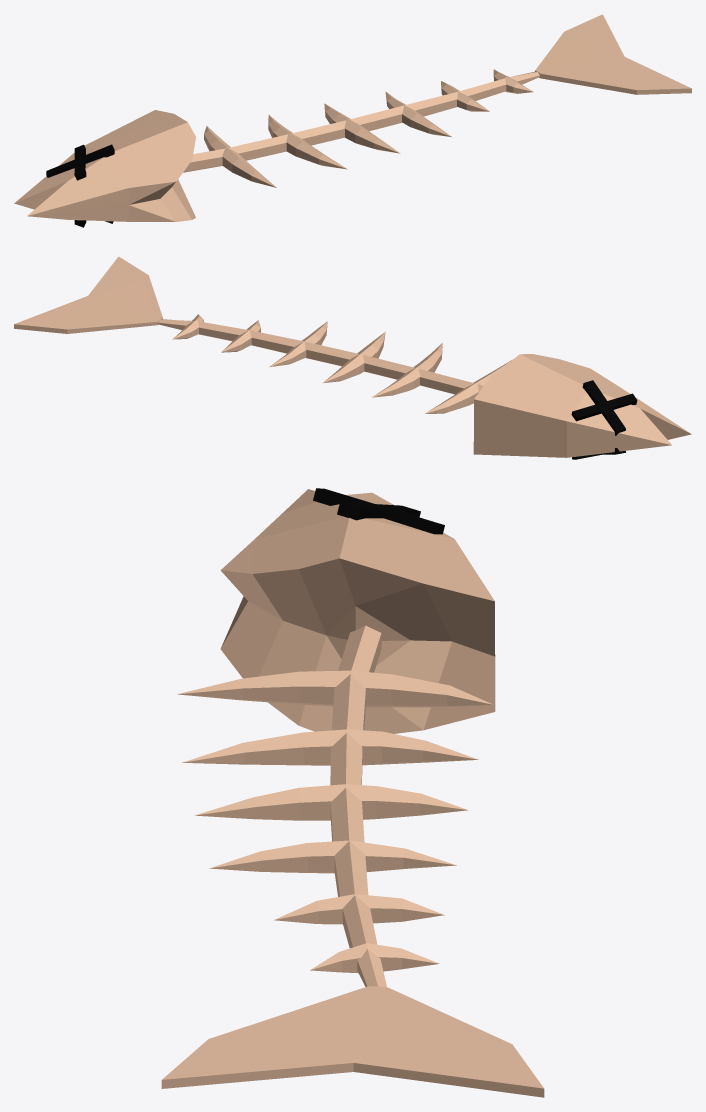
Rendered from fish skeleton.fbx.
The picture shows the model from 3 angles, top to bottom: view 1: azimuth 30°, elevation 25°; view 2: azimuth 150°, elevation 25°; view 3: azimuth 270°, elevation 25°; orthographic projection. The views are drawn at different scales.
Visible parts, largest first — view 1: Salmon skeleton; view 2: Salmon skeleton; view 3: Salmon skeleton.
Part boxes in pixels (left/top/right/bottom): Salmon skeleton: left=14, top=14, right=691, bottom=227; Salmon skeleton: left=14, top=256, right=691, bottom=459; Salmon skeleton: left=161, top=488, right=544, bottom=1097.
Size of the model in its own units: 158 by 22.18 by 42.18.
